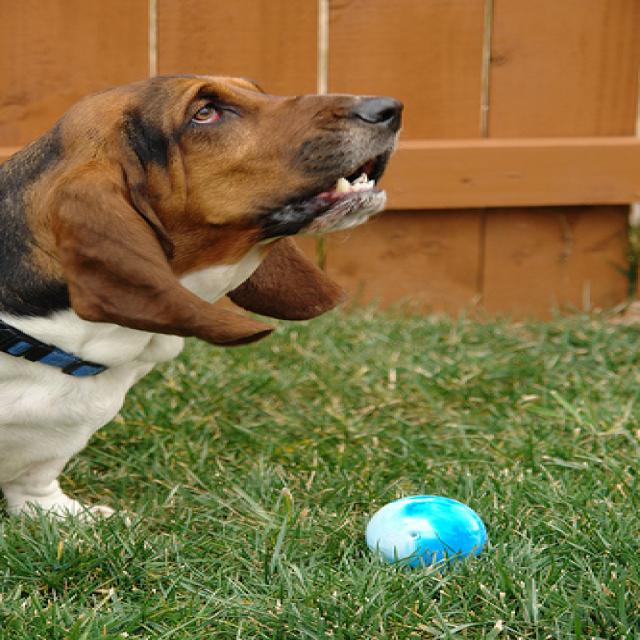dog-basset_hound: (2, 68, 407, 526)
